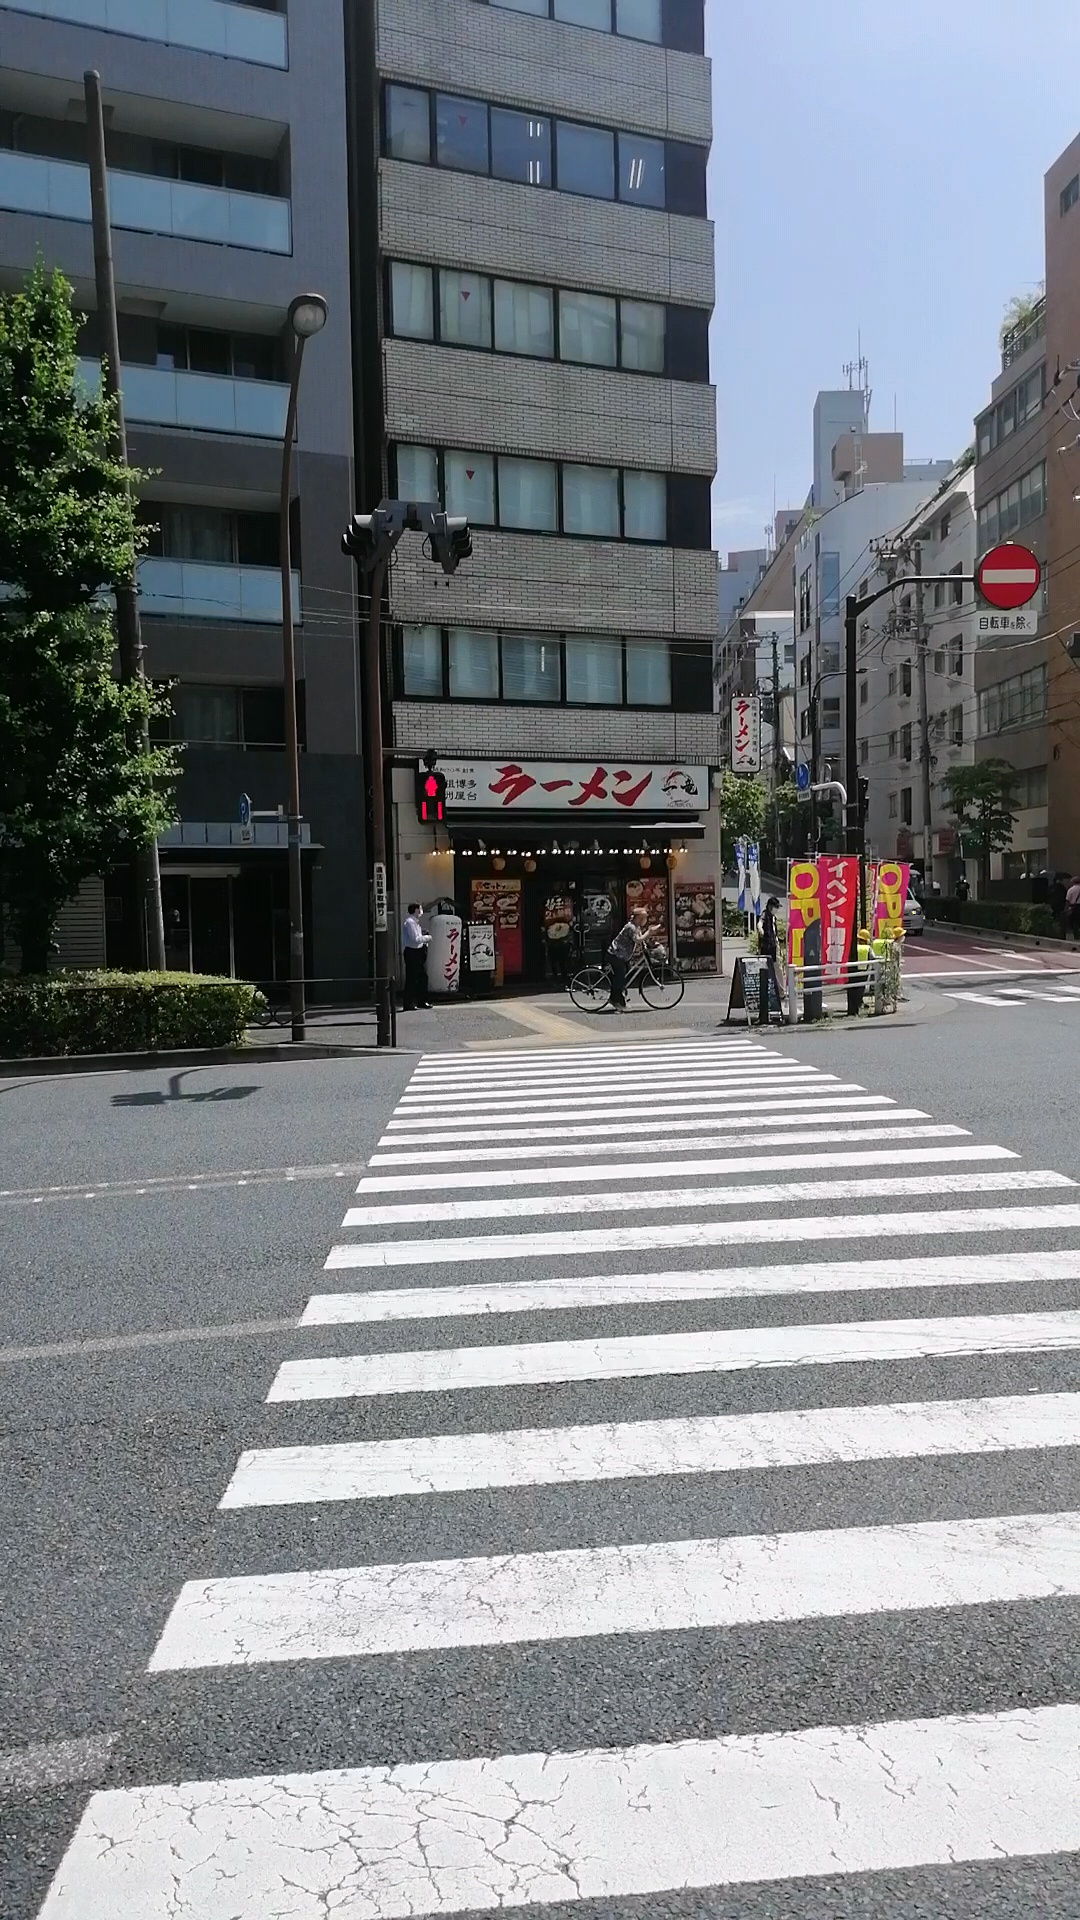red: (414, 770, 448, 825)
